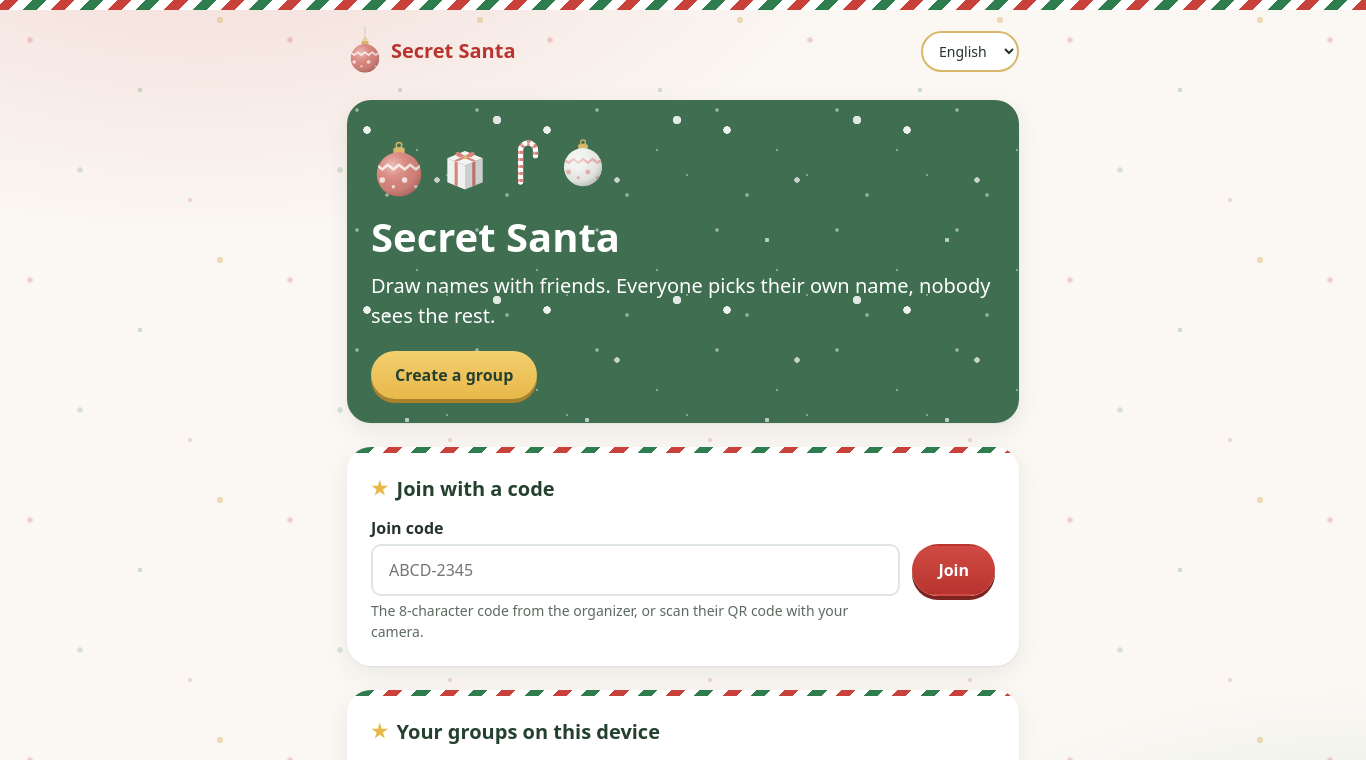
Test case: home › switches language and remembers it
Step 1. Select "Italiano" in the dropdown named "Language" → point(970, 51), box [921,31,1019,72]
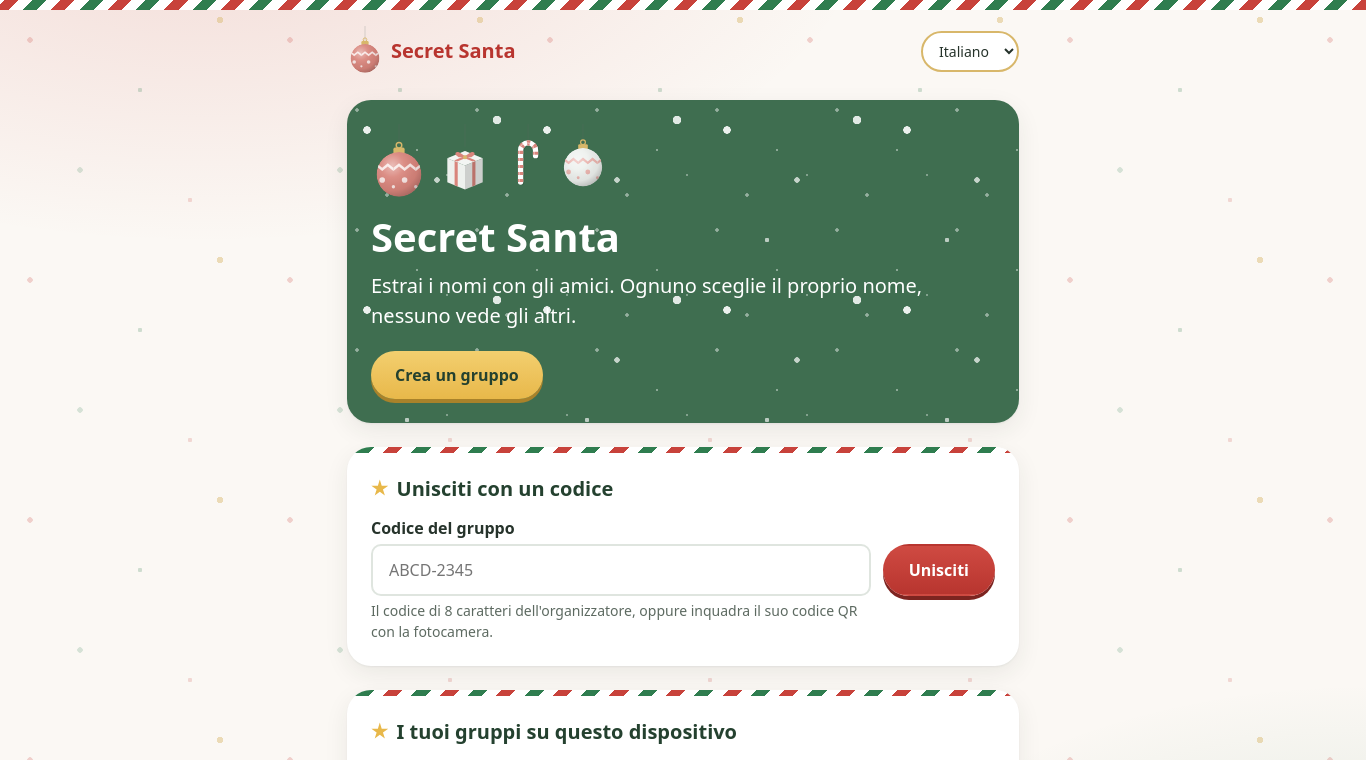
Check: the link "Crea un gruppo" is shown, box [371,351,543,399]
